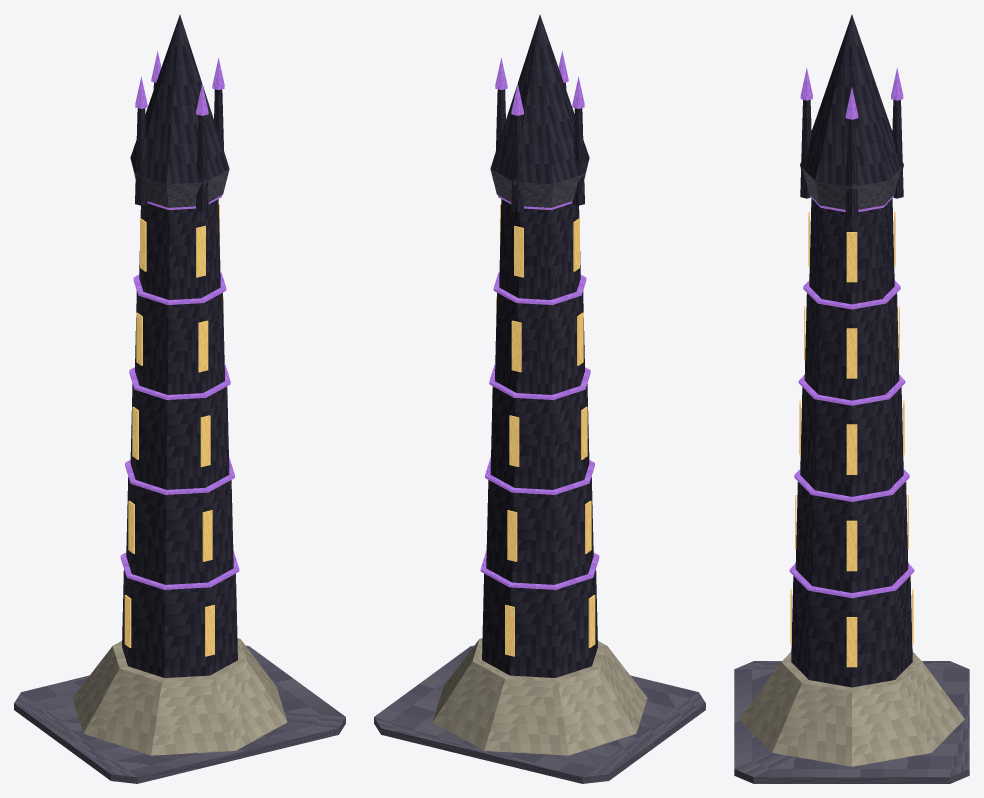
Rendered from Tour_De_Morvath.glb.
3 views of the same model, side by side, from view 1: azimuth 30°, elevation 25°; view 2: azimuth 150°, elevation 25°; view 3: azimuth 270°, elevation 25° (orthographic).
Parts seen in each view (by area): view 1: Structure; view 2: Structure; view 3: Structure.
Part boxes in pixels (x1=…): Structure: x1=14, y1=14, x2=345, y2=783; Structure: x1=374, y1=14, x2=705, y2=783; Structure: x1=734, y1=14, x2=969, y2=783.
Bounding box in the file's own units: 14 × 40 × 12.
Materials: 3 (3 with a texture image).
